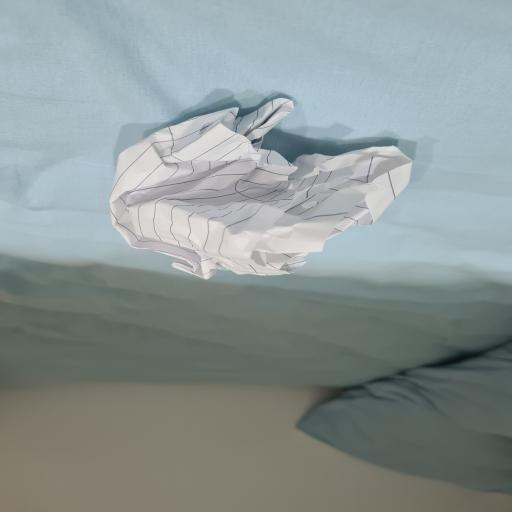Kertas: (105, 100, 417, 277)
